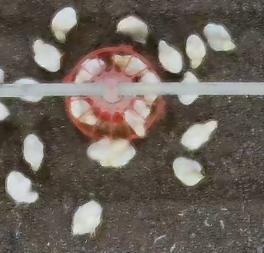chick: (87, 139, 136, 168), (179, 119, 218, 149), (30, 39, 64, 73), (72, 202, 104, 238), (6, 171, 38, 203), (49, 8, 78, 43), (115, 15, 149, 43), (172, 157, 204, 186), (157, 40, 183, 73), (205, 23, 235, 51), (23, 134, 45, 172), (13, 78, 45, 103), (177, 72, 201, 104), (74, 60, 105, 84), (70, 97, 97, 123), (186, 34, 206, 68), (140, 70, 159, 104), (110, 55, 145, 73), (124, 112, 147, 138), (130, 98, 151, 119)
rice: (63, 45, 165, 141)
